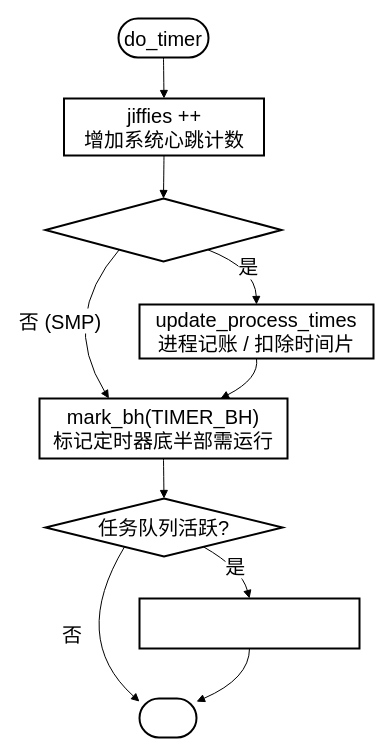
Some shapes in this 391 by 755 pixel diagram are drawn without their labels. The centre of each missing label's shape, as x and y in pixels:
mark_bh(TQUEUE_BH) 调度其他定时任务: pixel 249 623
单核处理器?: pixel 163 229
结束: pixel 167 717
